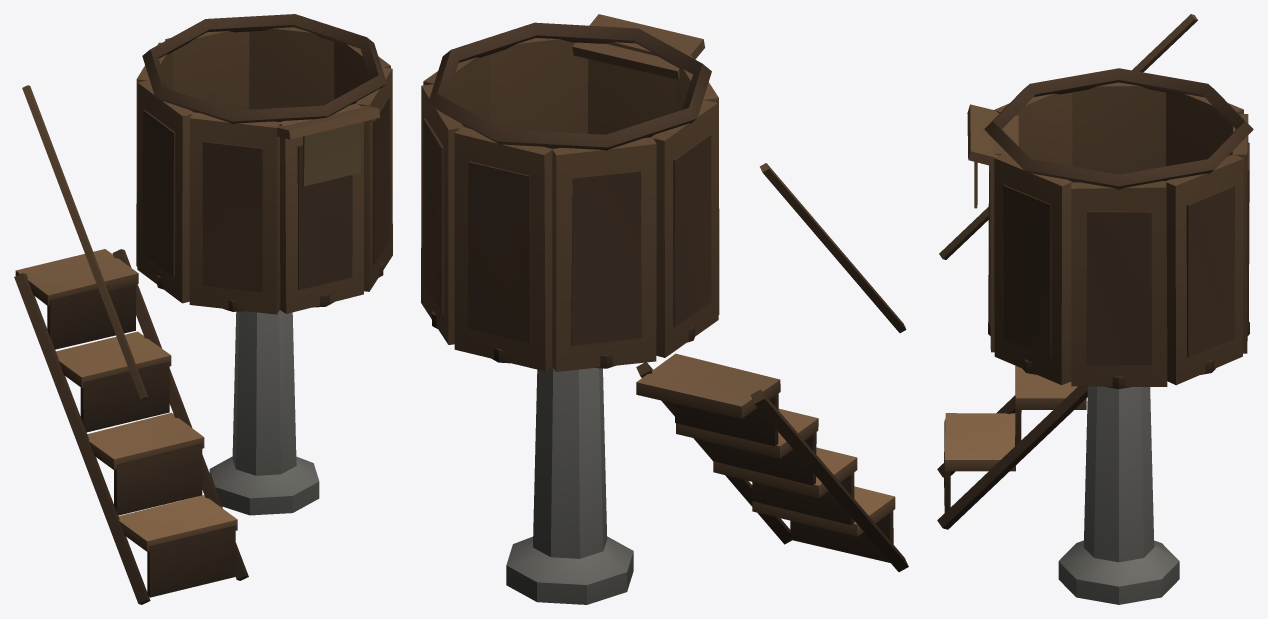
Rendered from ph_int_church_pulpit.glb.
3 renders of one model, left to right at view 1: azimuth 30°, elevation 25°; view 2: azimuth 150°, elevation 25°; view 3: azimuth 270°, elevation 25°, orthographic. The views are drawn at different scales.
Visible parts, largest first — view 1: ph_int_church_pulpit; view 2: ph_int_church_pulpit; view 3: ph_int_church_pulpit.
Boxes of the visible parts, bbox=[...] form: ph_int_church_pulpit: bbox=[14, 14, 392, 604]; ph_int_church_pulpit: bbox=[421, 14, 908, 604]; ph_int_church_pulpit: bbox=[937, 14, 1253, 604].
Size of the model in its own units: 1.56 by 2.03 by 1.26.
